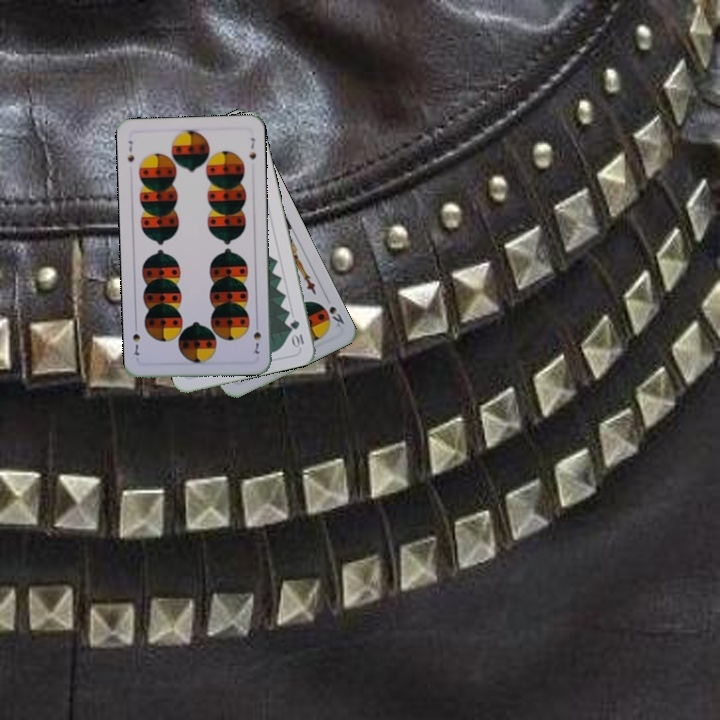G10: (286, 316, 307, 350)
S7: (249, 318, 264, 356), (123, 137, 137, 164)
SK: (325, 302, 347, 330)
